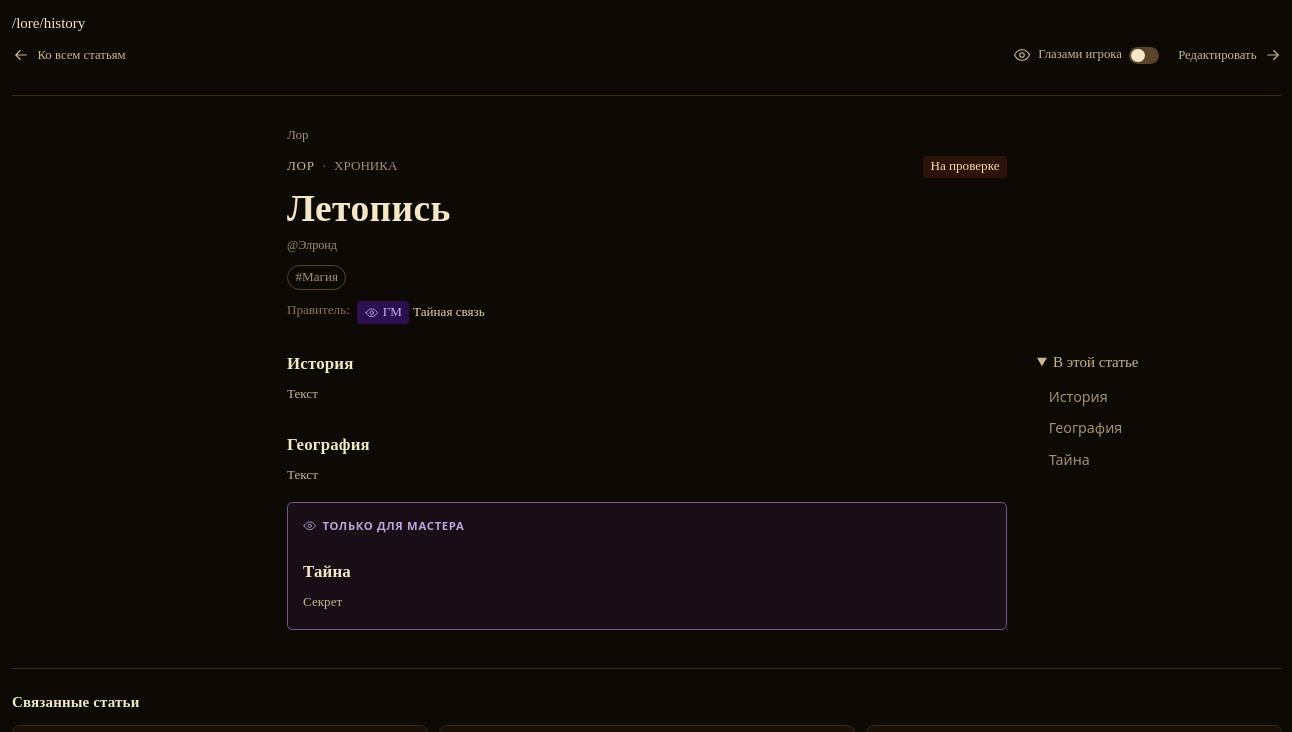
Lore navigation and filters › hides an unpublished article in player view
Click the switch labelled "Глазами игрока" at (1086, 55), box [1013, 34, 1160, 76]
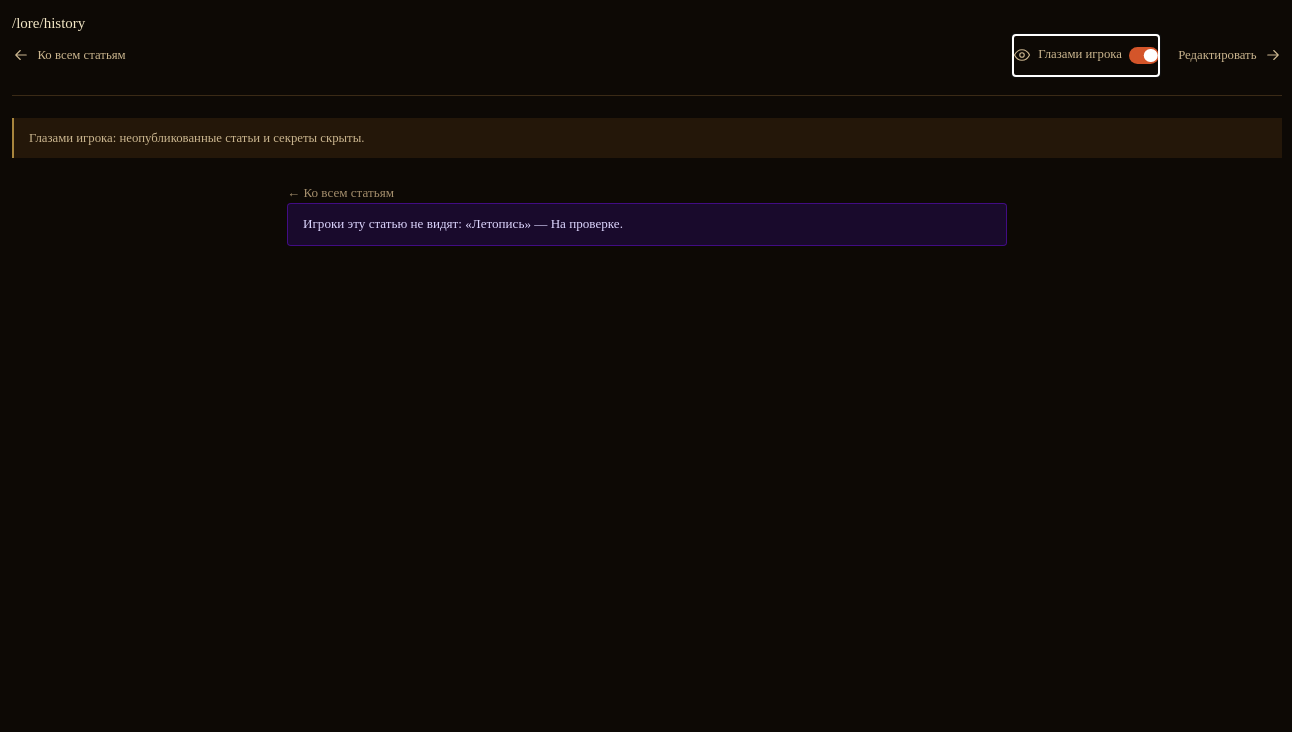
expect the text "Игроки эту статью не видят: «Летопись» — На проверке." is shown: met, box [287, 203, 1007, 246]
